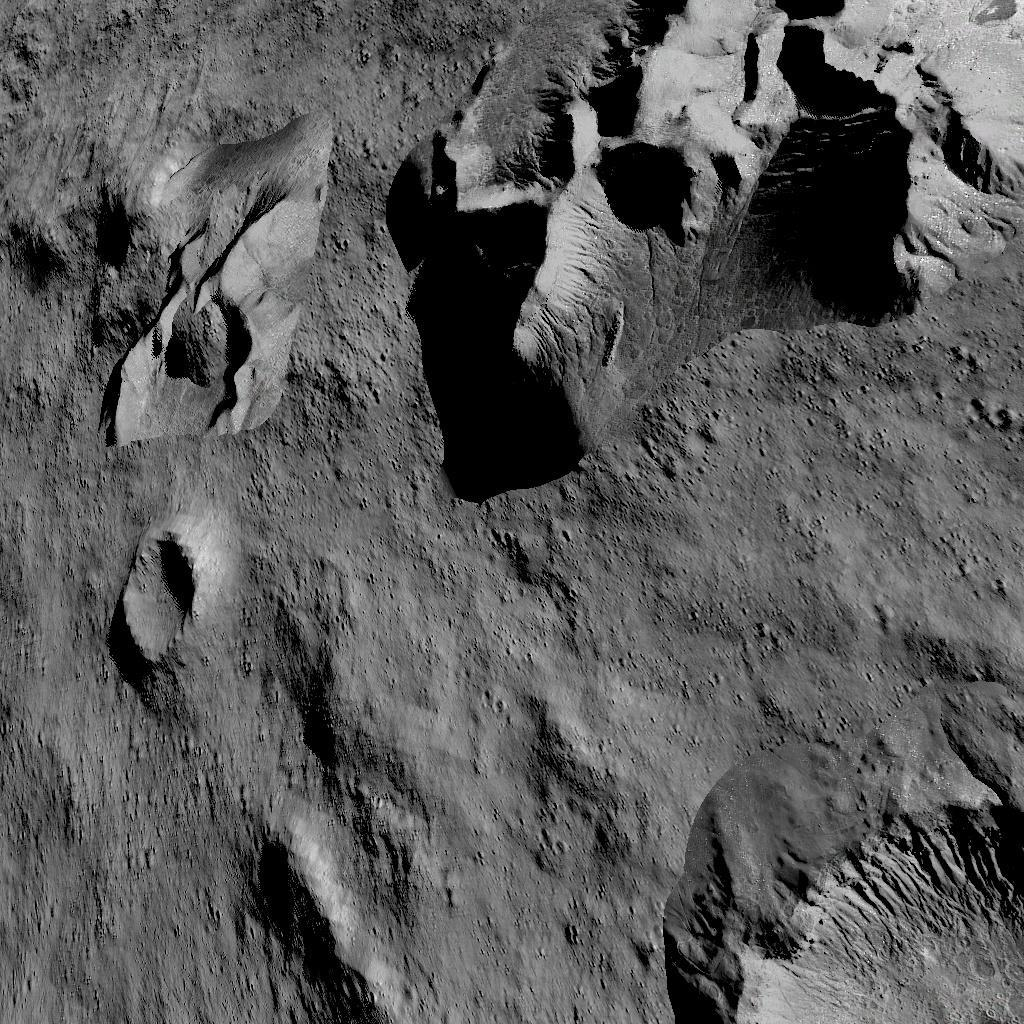Boulders: (388, 0, 1024, 503), (80, 108, 340, 448)
Crater: (677, 762, 1024, 1024), (116, 512, 212, 662)
Plan surface: (427, 516, 1024, 752), (0, 668, 272, 1024), (398, 762, 666, 1024), (0, 0, 377, 96), (1, 456, 95, 658)
